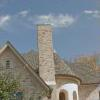Chimney: (26, 13, 62, 91)
